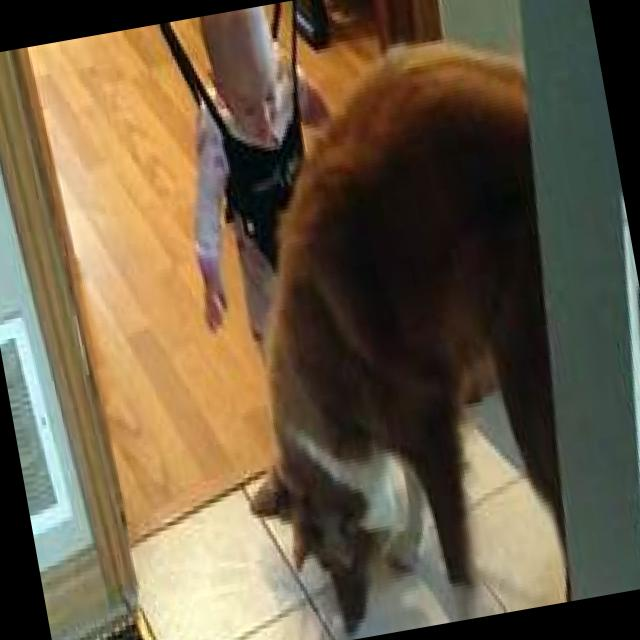animal: (173, 21, 619, 640)
